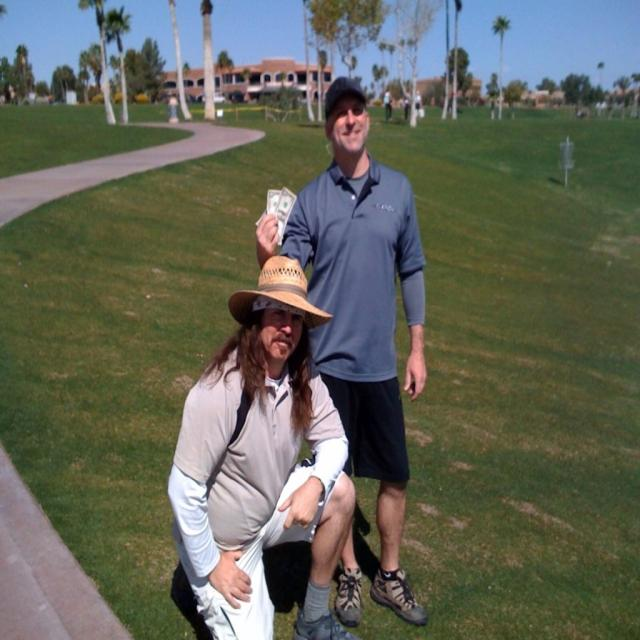Hat: (227, 253, 334, 331)
